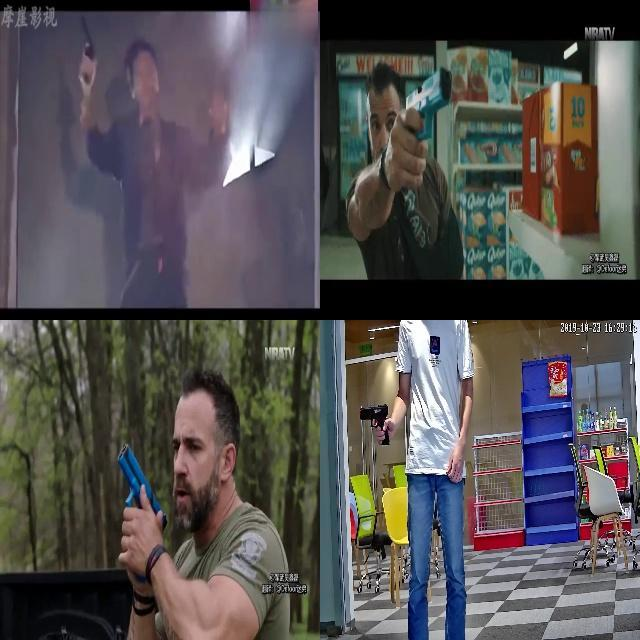gun-knife-thesis - v11 Yolov5 augmented: (392, 70, 453, 197), (113, 435, 165, 565), (69, 7, 98, 92), (358, 401, 391, 444)
